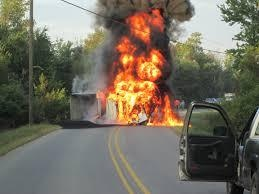fire: (105, 12, 186, 129)
